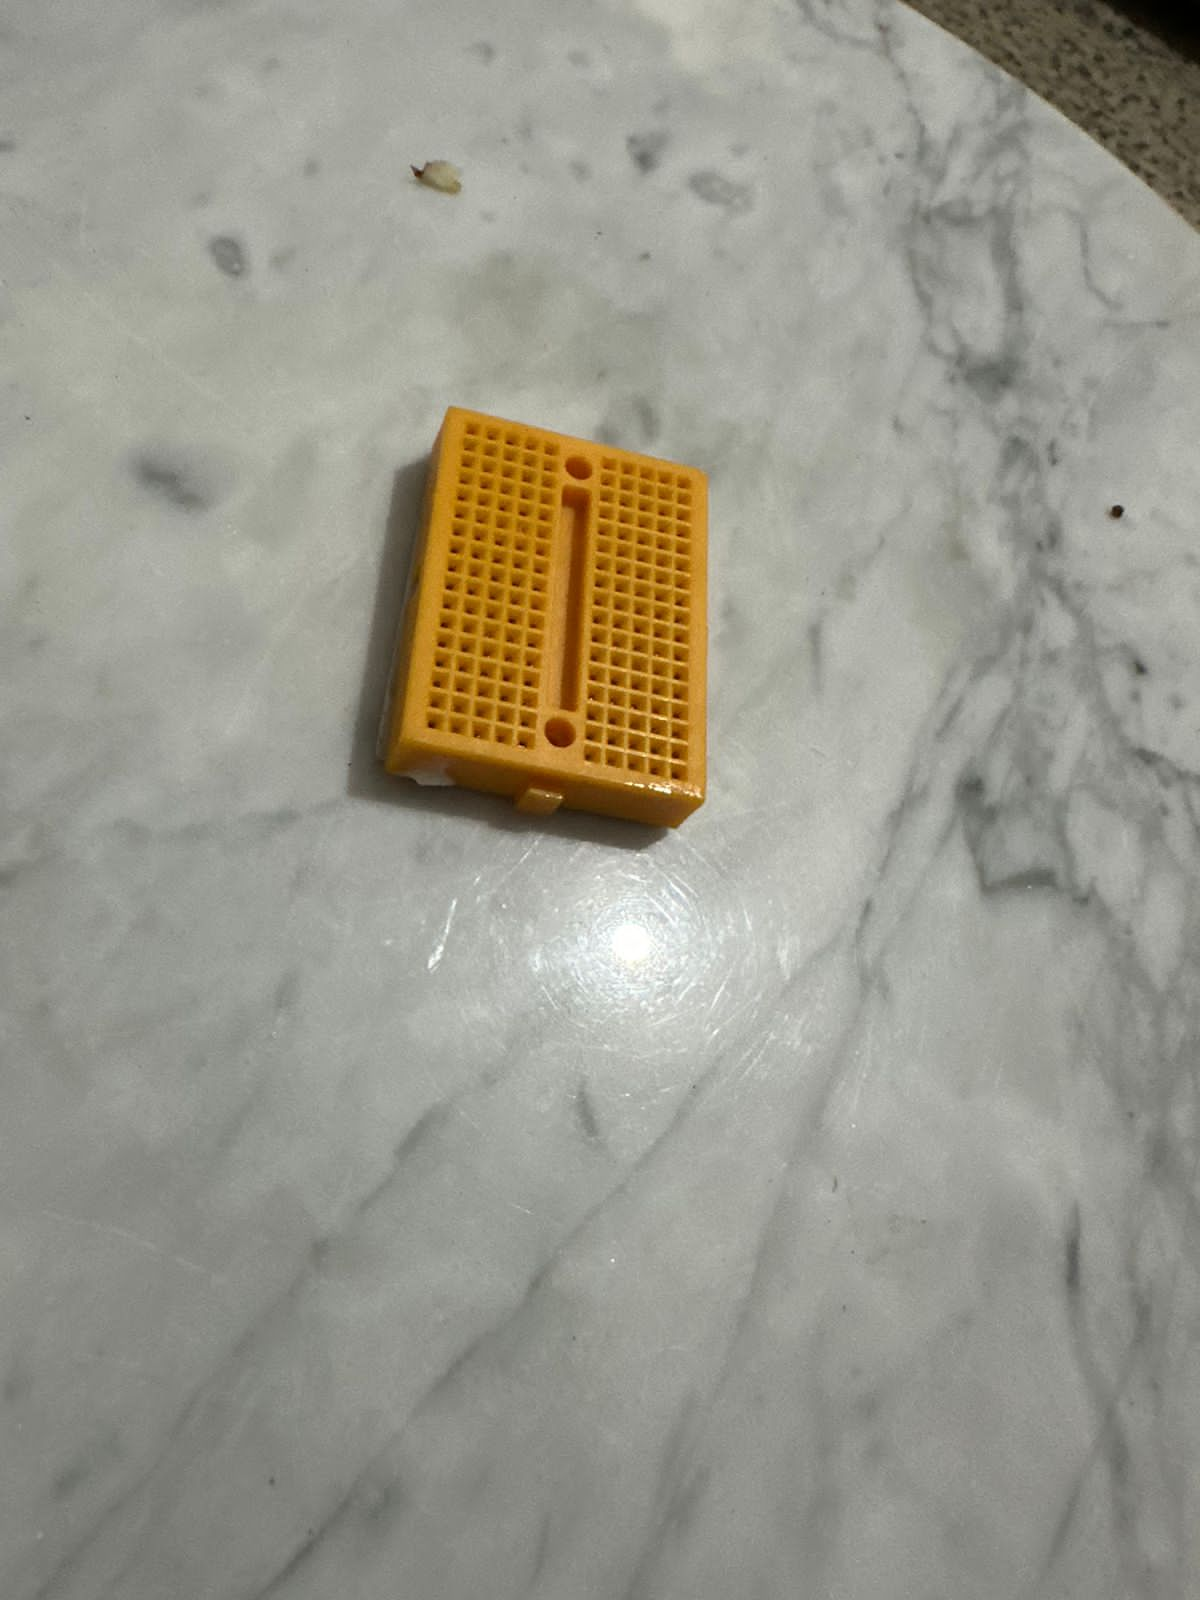breadboard: (355, 387, 716, 853)
